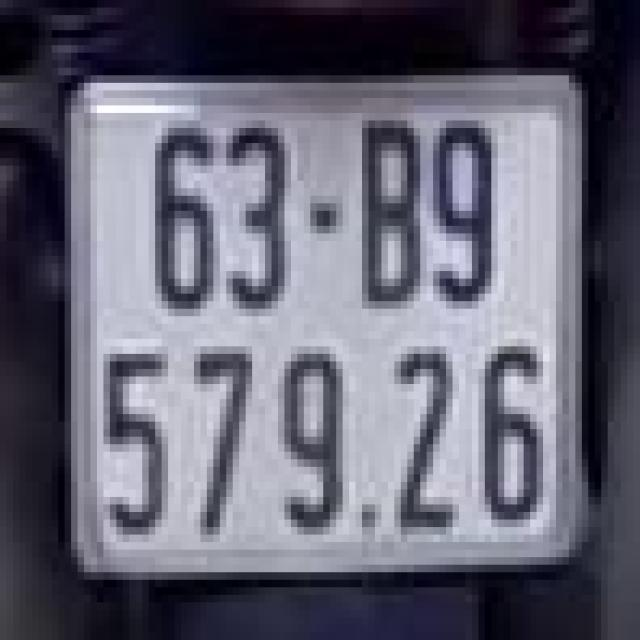2: (384, 335, 468, 546)
3: (220, 113, 291, 316)
5: (87, 324, 178, 542)
6: (142, 109, 226, 320), (478, 323, 556, 534)
7: (184, 335, 249, 538)
9: (265, 323, 356, 534), (430, 109, 507, 320)
B: (346, 109, 430, 320)
